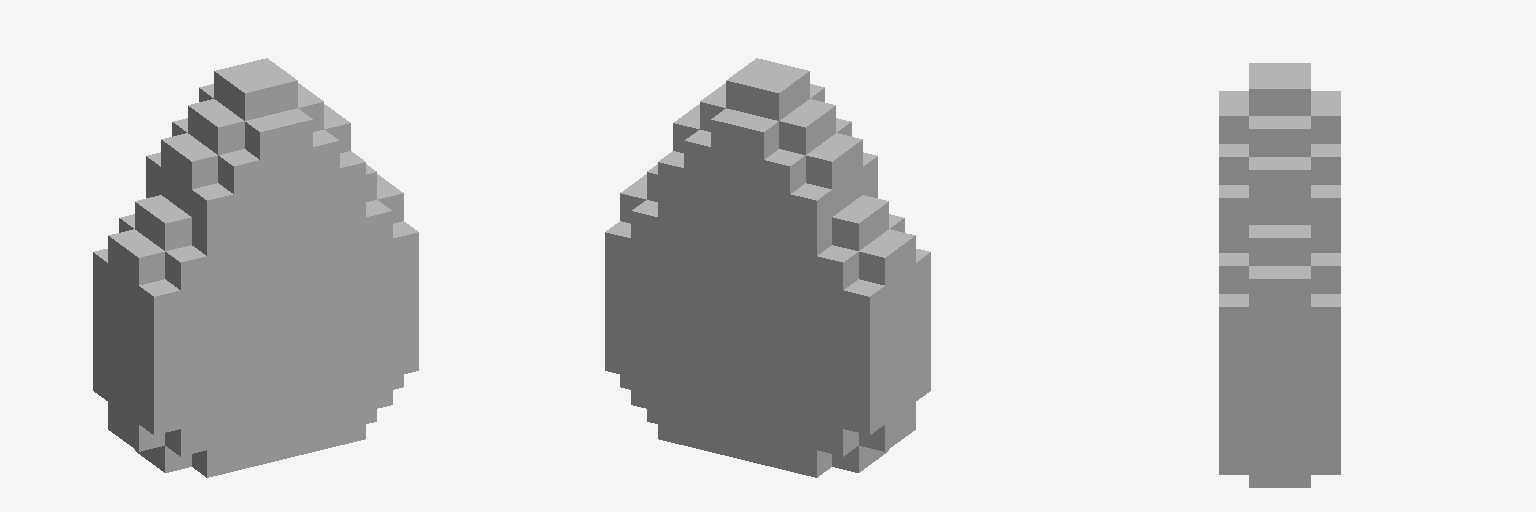
File: Boost.obj
3 renders of one model, left to right at view 1: azimuth 30°, elevation 25°; view 2: azimuth 150°, elevation 25°; view 3: azimuth 270°, elevation 25°, orthographic.
Visible parts, largest first — view 1: object 1; view 2: object 1; view 3: object 1.
Boxes of the visible parts, x1=… form: object 1: x1=93, y1=58, x2=418, y2=477; object 1: x1=605, y1=58, x2=930, y2=477; object 1: x1=1219, y1=63, x2=1340, y2=487.
Bounding box in the file's own units: 1 × 1.3 × 0.4.